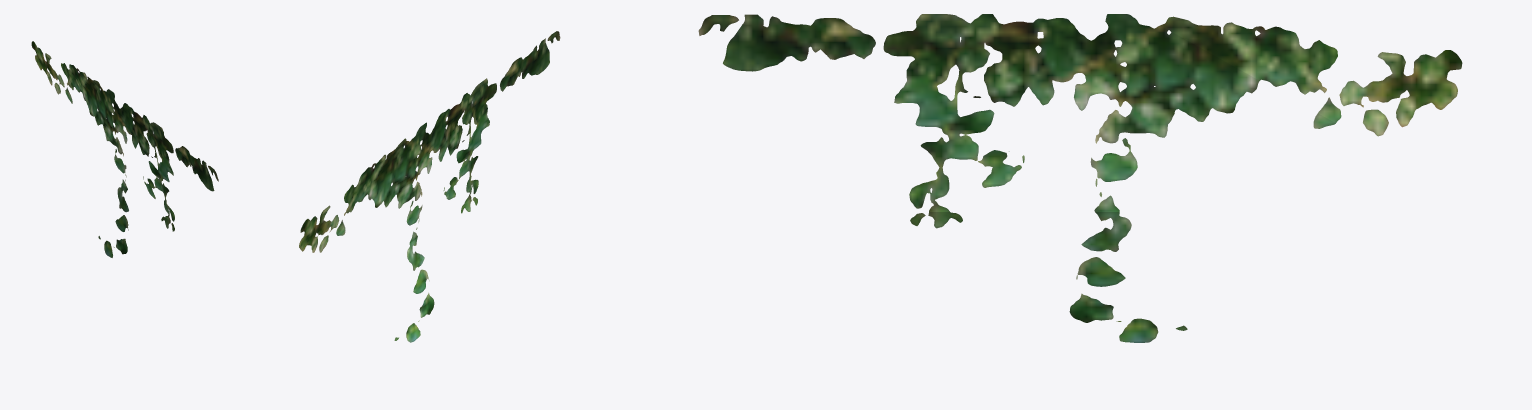
File: popinavka_pramen_1.glb
3 renders of one model, left to right at view 1: azimuth 30°, elevation 25°; view 2: azimuth 150°, elevation 25°; view 3: azimuth 270°, elevation 25°, orthographic. The views are drawn at different scales.
Parts seen in each view (by area): view 1: popinavka_pramen_1; view 2: popinavka_pramen_1; view 3: popinavka_pramen_1.
Boxes of the visible parts, <box> form: popinavka_pramen_1: <box>31,41,218,257</box>; popinavka_pramen_1: <box>299,31,560,342</box>; popinavka_pramen_1: <box>698,14,1462,342</box>.
Size of the model in its own units: 0.2164 by 0.8961 by 1.77.
Materials: 1 (1 with a texture image).
